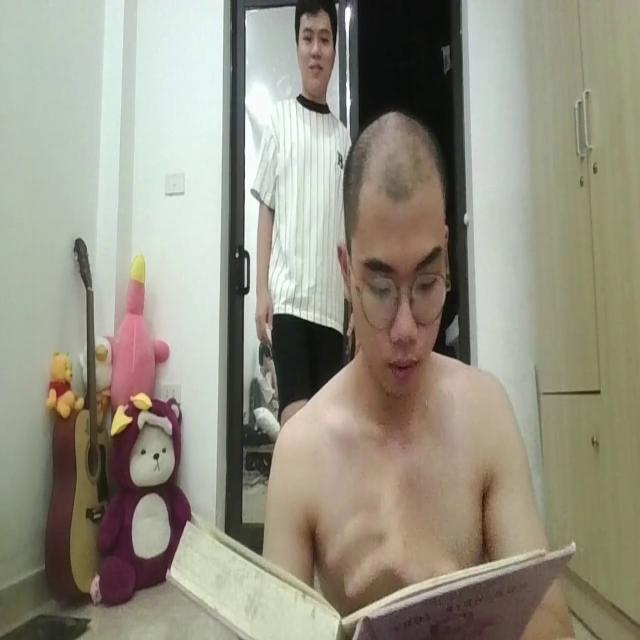book: (142, 499, 580, 640)
extra_person: (241, 3, 366, 431)
student: (271, 100, 554, 616)
